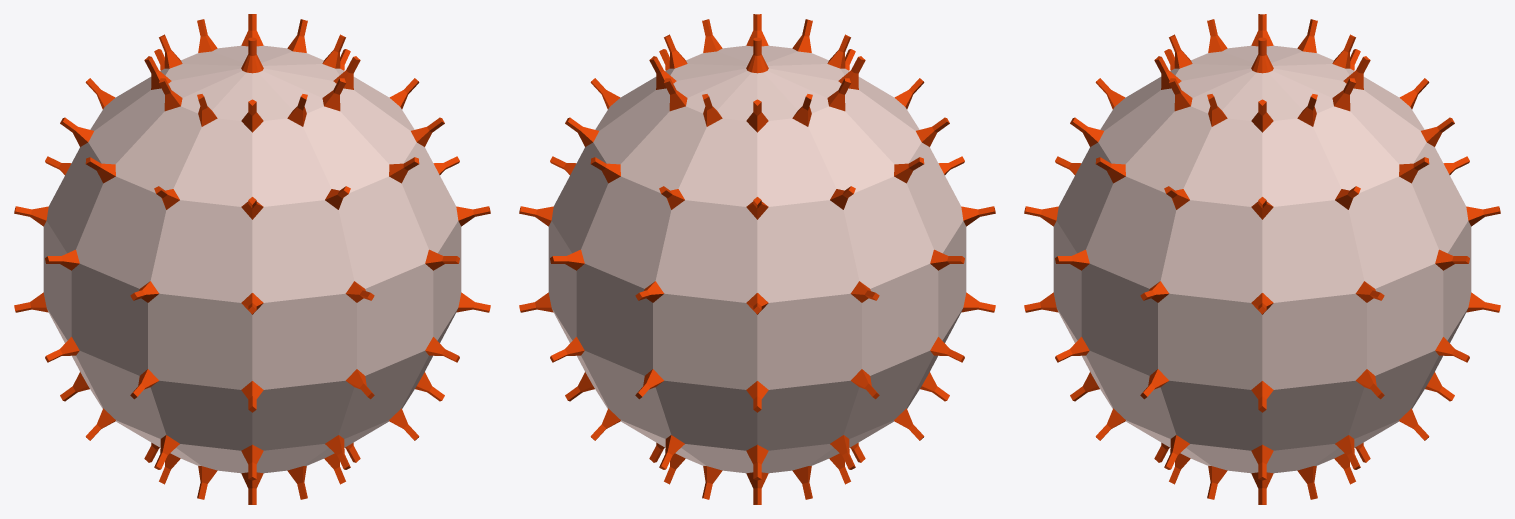
The model's file is spike.fbx.
The picture shows the model from 3 angles, left to right: view 1: azimuth 30°, elevation 25°; view 2: azimuth 150°, elevation 25°; view 3: azimuth 270°, elevation 25°; orthographic projection.
Visible parts, largest first — view 1: Sphere; view 2: Sphere; view 3: Sphere.
Part boxes in pixels (x1,y1,x2,y2): Sphere: (14,14,490,504); Sphere: (519,14,995,504); Sphere: (1024,14,1500,504).
Bounding box in the file's own units: 238 × 242 × 238.
